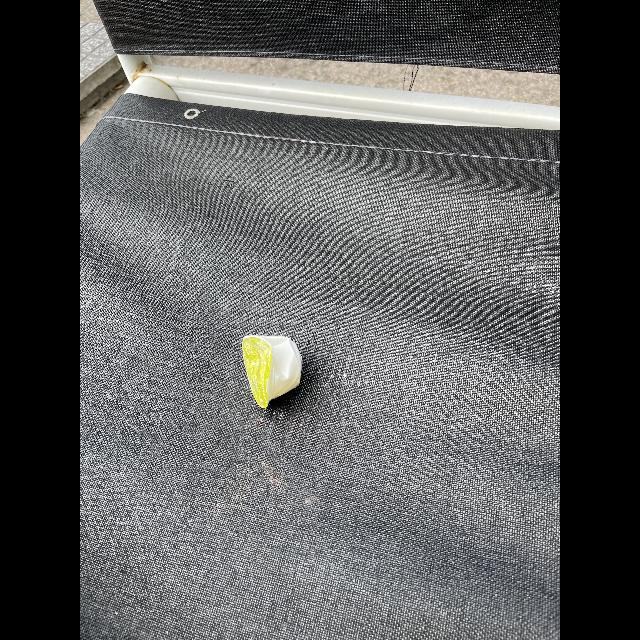damaged_capsule: (237, 316, 307, 410)
